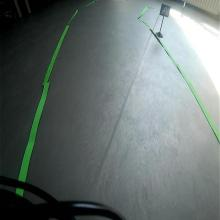crosswalk: (159, 4, 171, 18)
